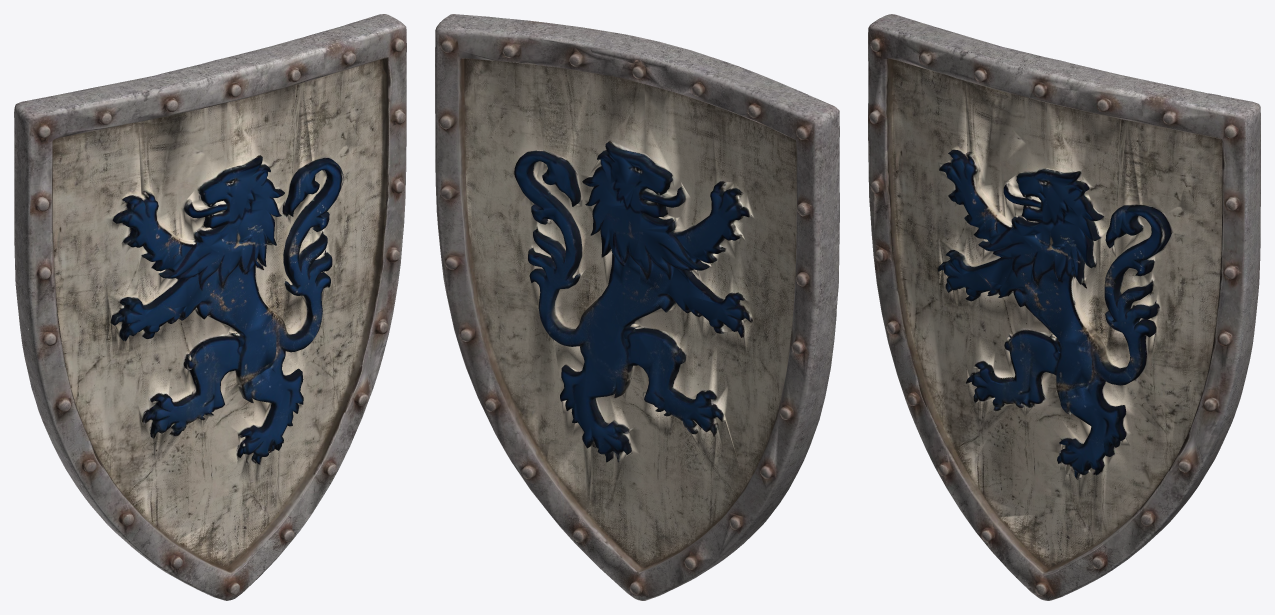
Rendered from shield-ordenador.glb.
The picture shows the model from 3 angles, left to right: view 1: azimuth 30°, elevation 25°; view 2: azimuth 150°, elevation 25°; view 3: azimuth 330°, elevation 25°; orthographic projection. The views are drawn at different scales.
Parts seen in each view (by area): view 1: tripo_node_161017f1-e1aa-4f9a-8ba3-708ba42ae7f9; view 2: tripo_node_161017f1-e1aa-4f9a-8ba3-708ba42ae7f9; view 3: tripo_node_161017f1-e1aa-4f9a-8ba3-708ba42ae7f9.
Boxes of the visible parts, x1,y1,x2,y2 form: tripo_node_161017f1-e1aa-4f9a-8ba3-708ba42ae7f9: (14,14,406,600); tripo_node_161017f1-e1aa-4f9a-8ba3-708ba42ae7f9: (435,14,839,600); tripo_node_161017f1-e1aa-4f9a-8ba3-708ba42ae7f9: (868,14,1260,600).
Bounding box in the file's own units: 0.7355 × 0.9807 × 0.1368.
Materials: 1 (1 with a texture image).
